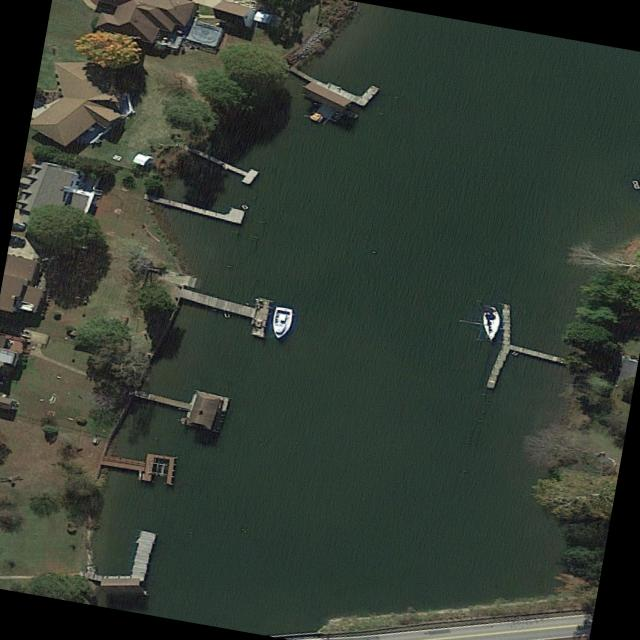ship: (480, 303, 503, 343), (270, 305, 294, 340)
